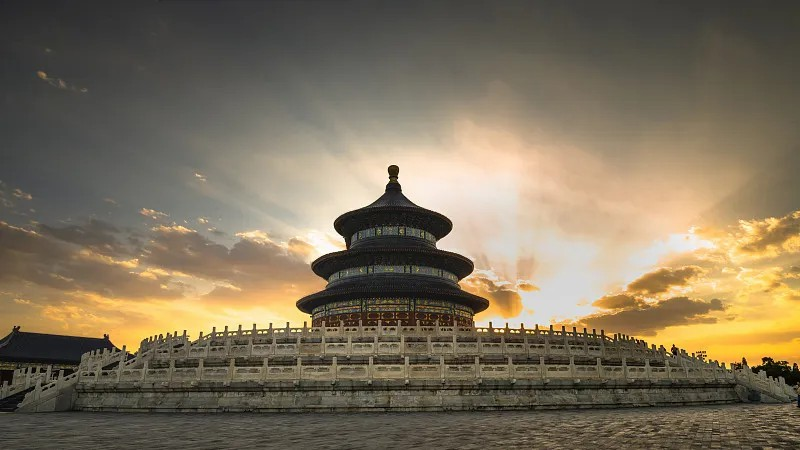Heaven: (294, 165, 489, 335)
